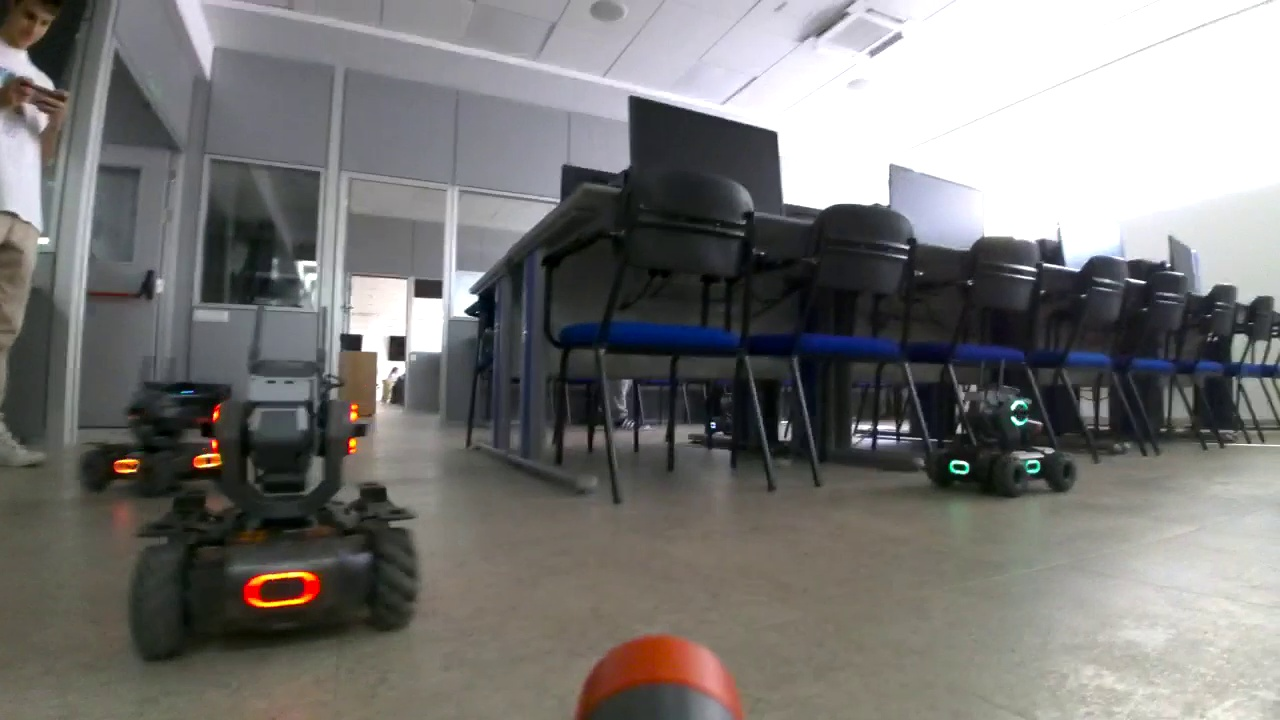robot: (131, 305, 416, 655), (924, 359, 1078, 497), (83, 370, 245, 493)
